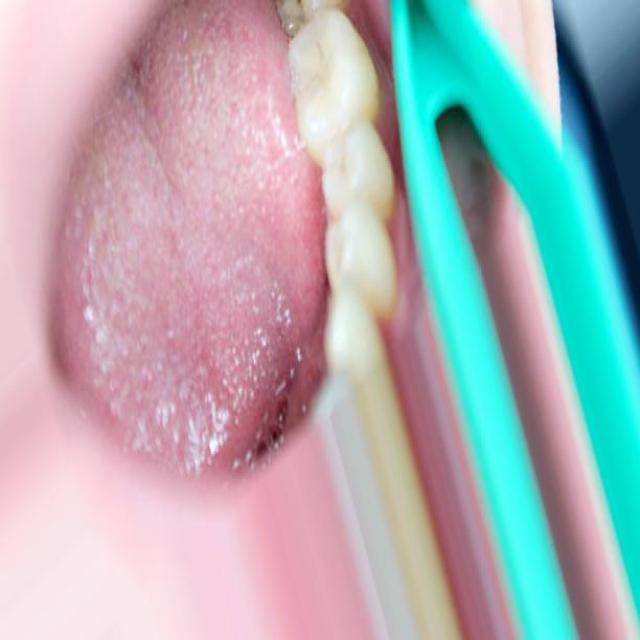caries: (266, 0, 329, 39)
